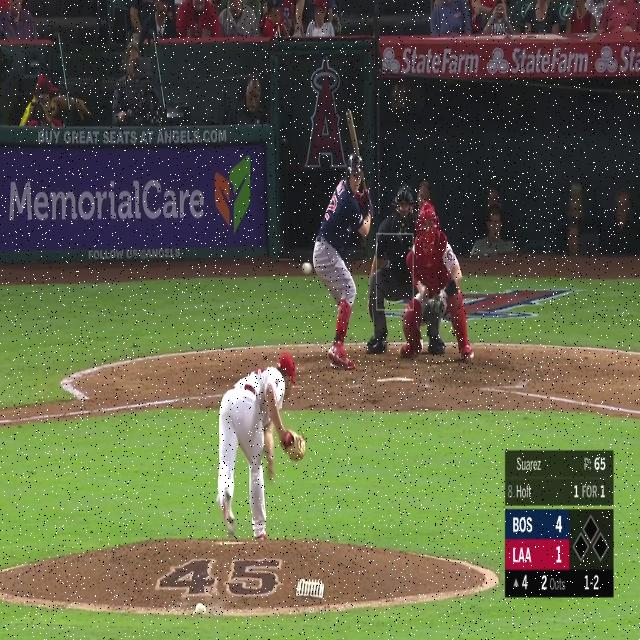baseball: (302, 262, 312, 274)
